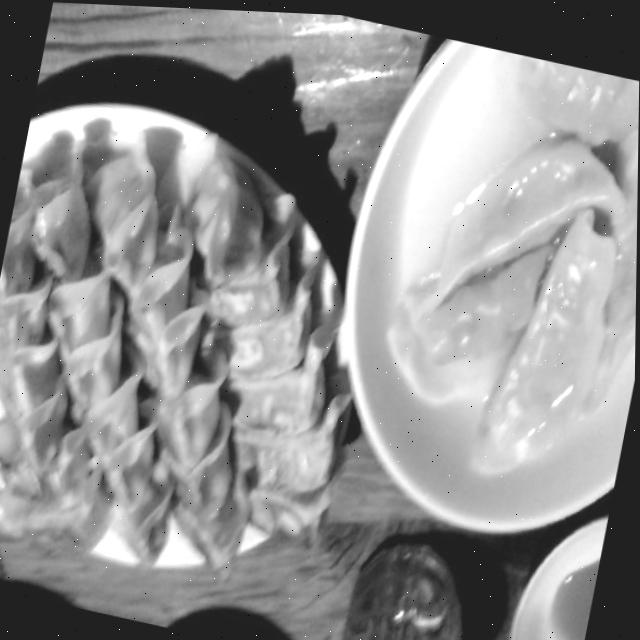带馅早点: (0, 96, 416, 622), (360, 29, 640, 514)
